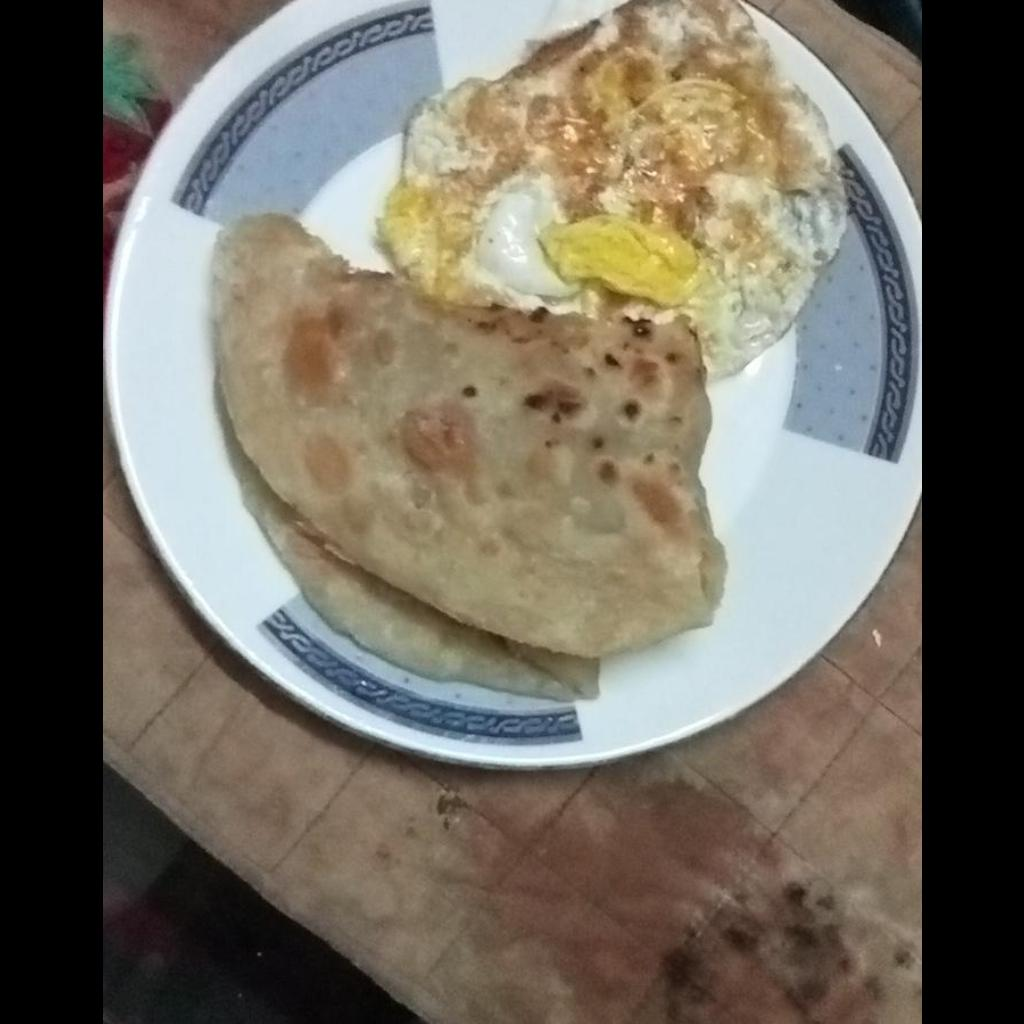egg-poached: (375, 0, 850, 380)
ruti: (208, 215, 720, 695)
